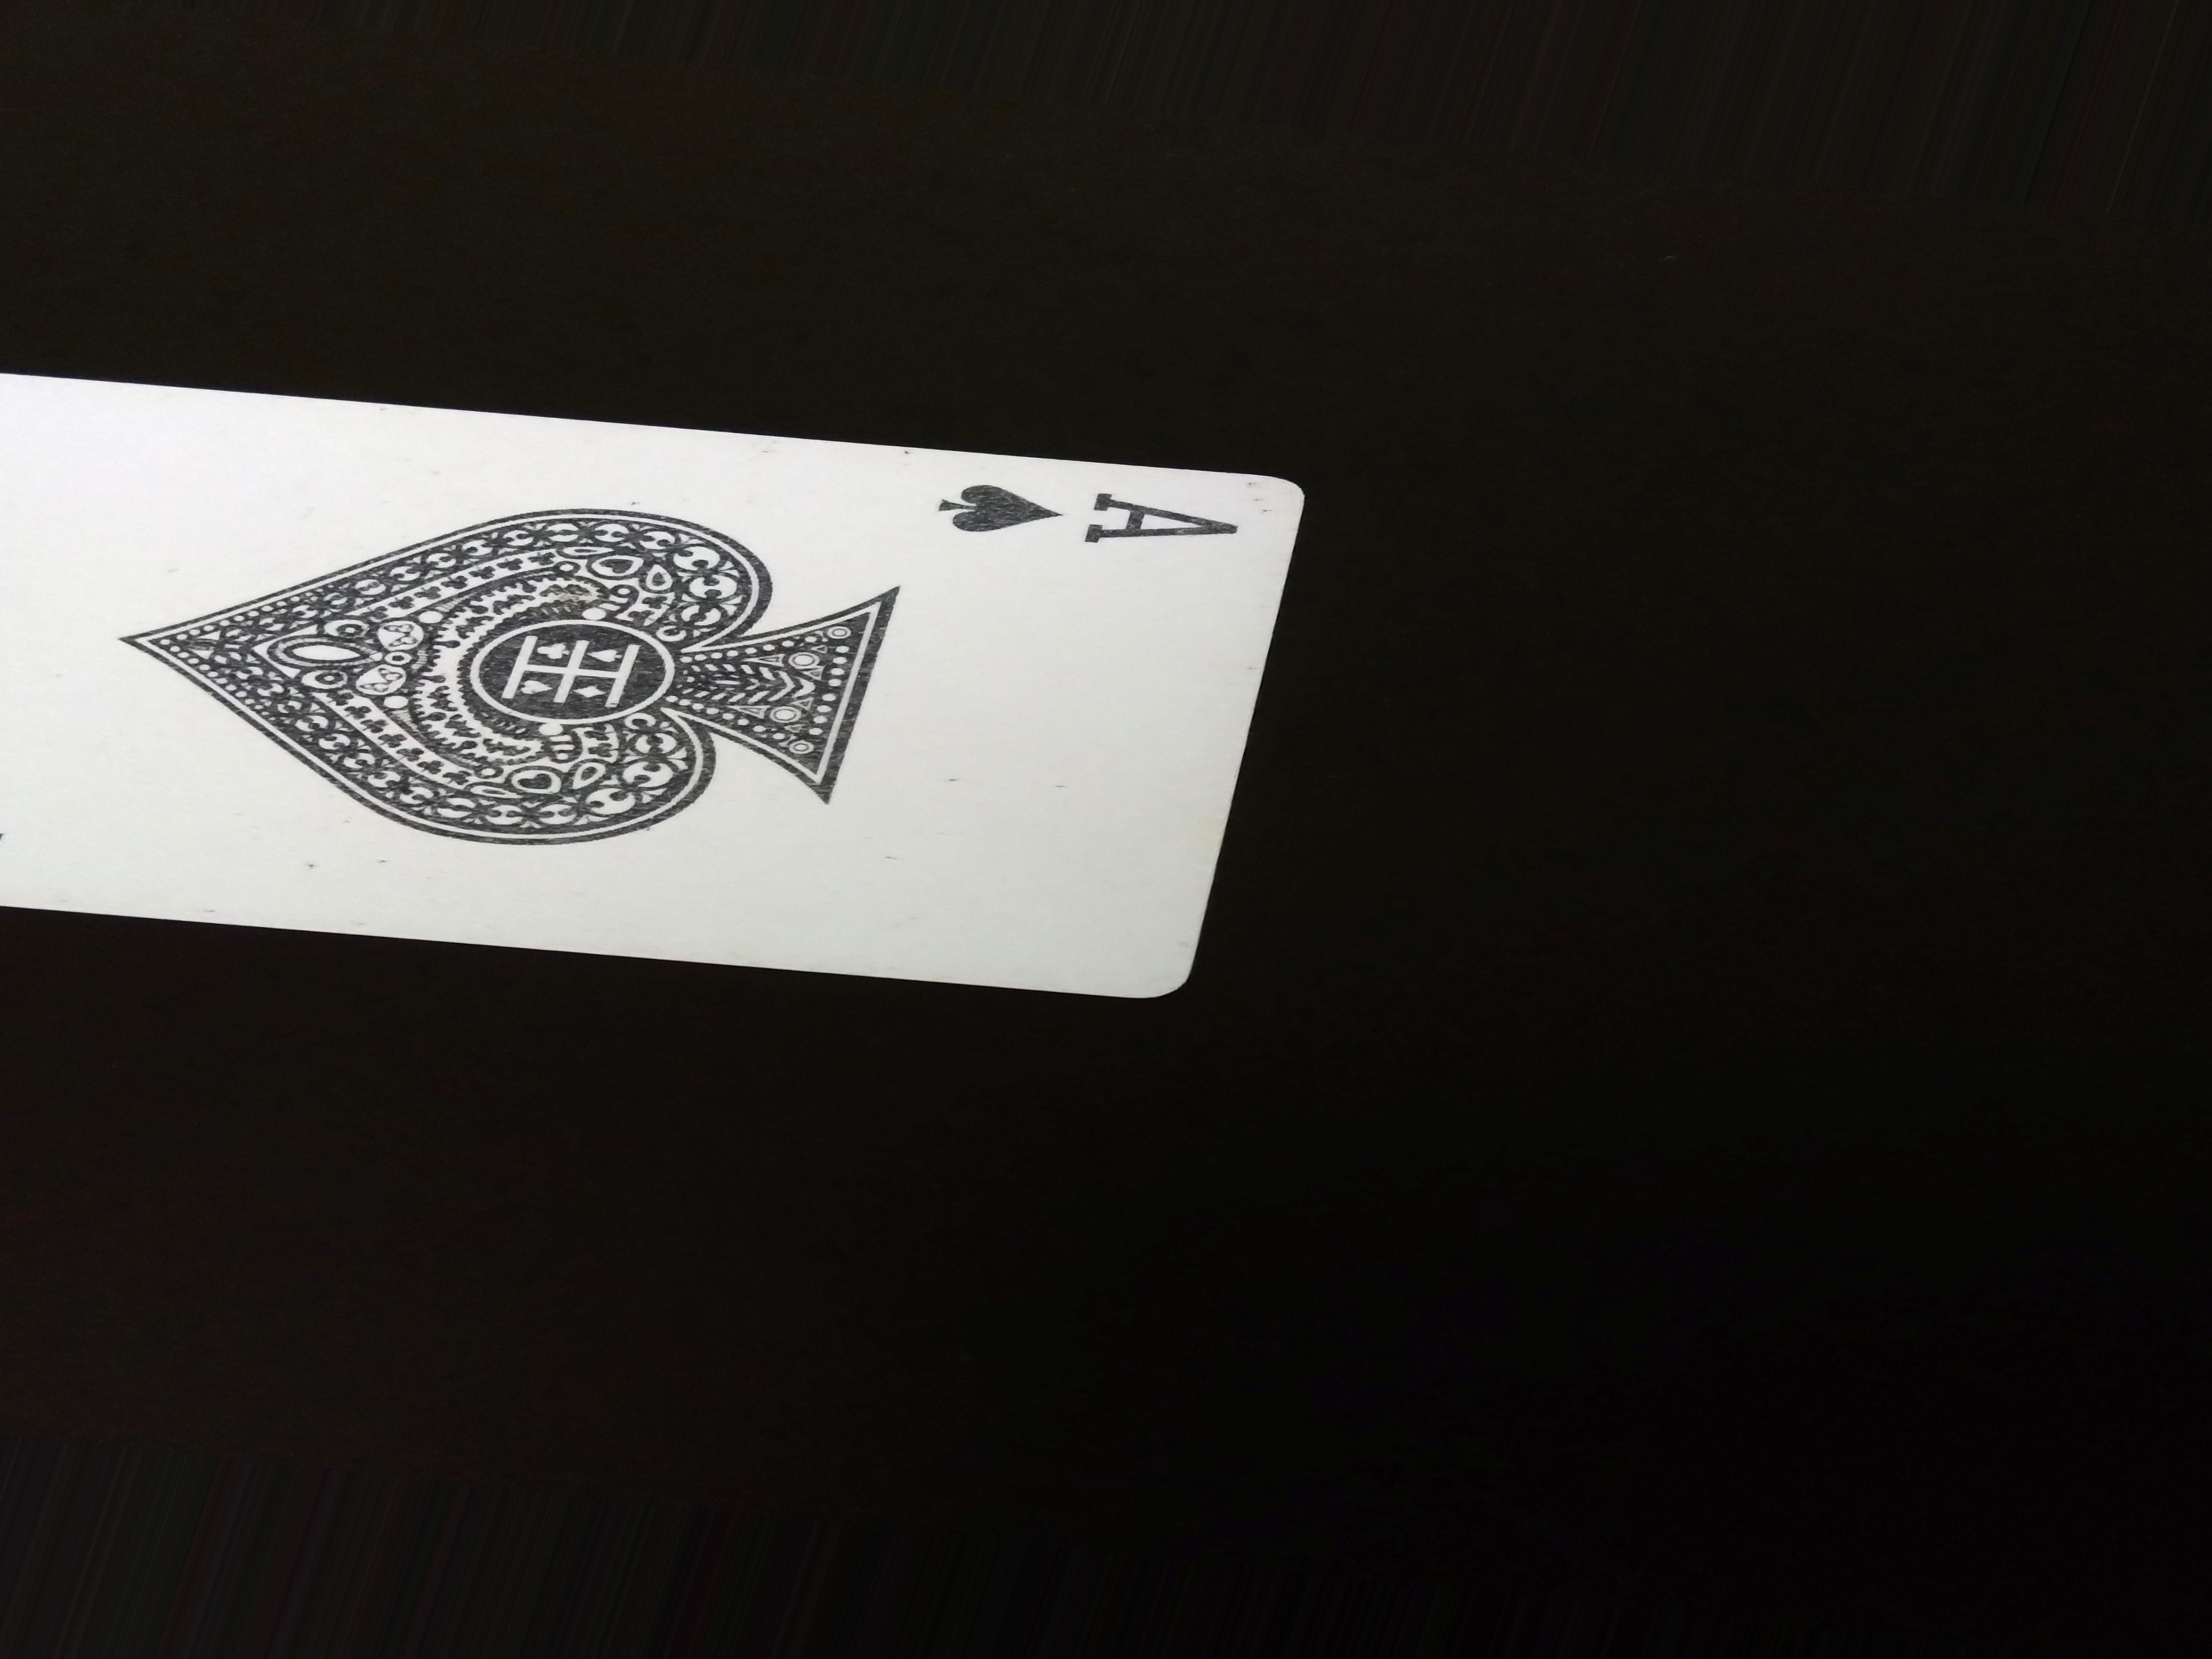AS: (923, 476, 1245, 568)
